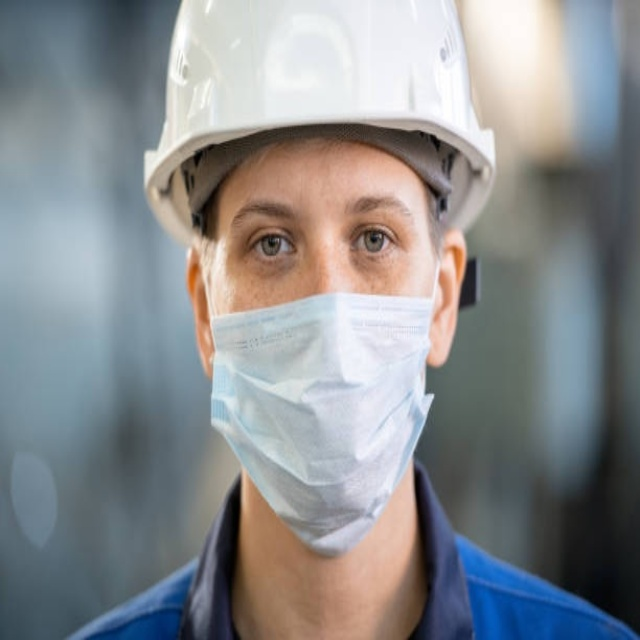Mascara: (205, 260, 441, 556)
Sin_gafas: (222, 182, 420, 285)
